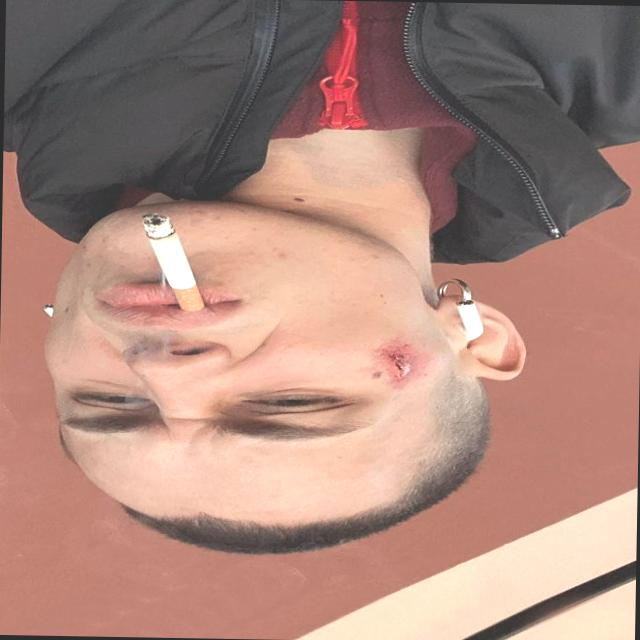cigarette: (99, 187, 262, 331)
